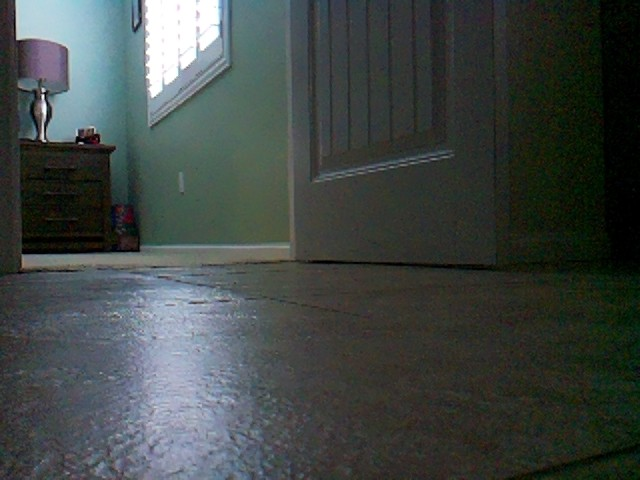Drivable Area: (5, 274, 640, 480), (26, 258, 291, 274)
Obstacle: (291, 2, 498, 265)
